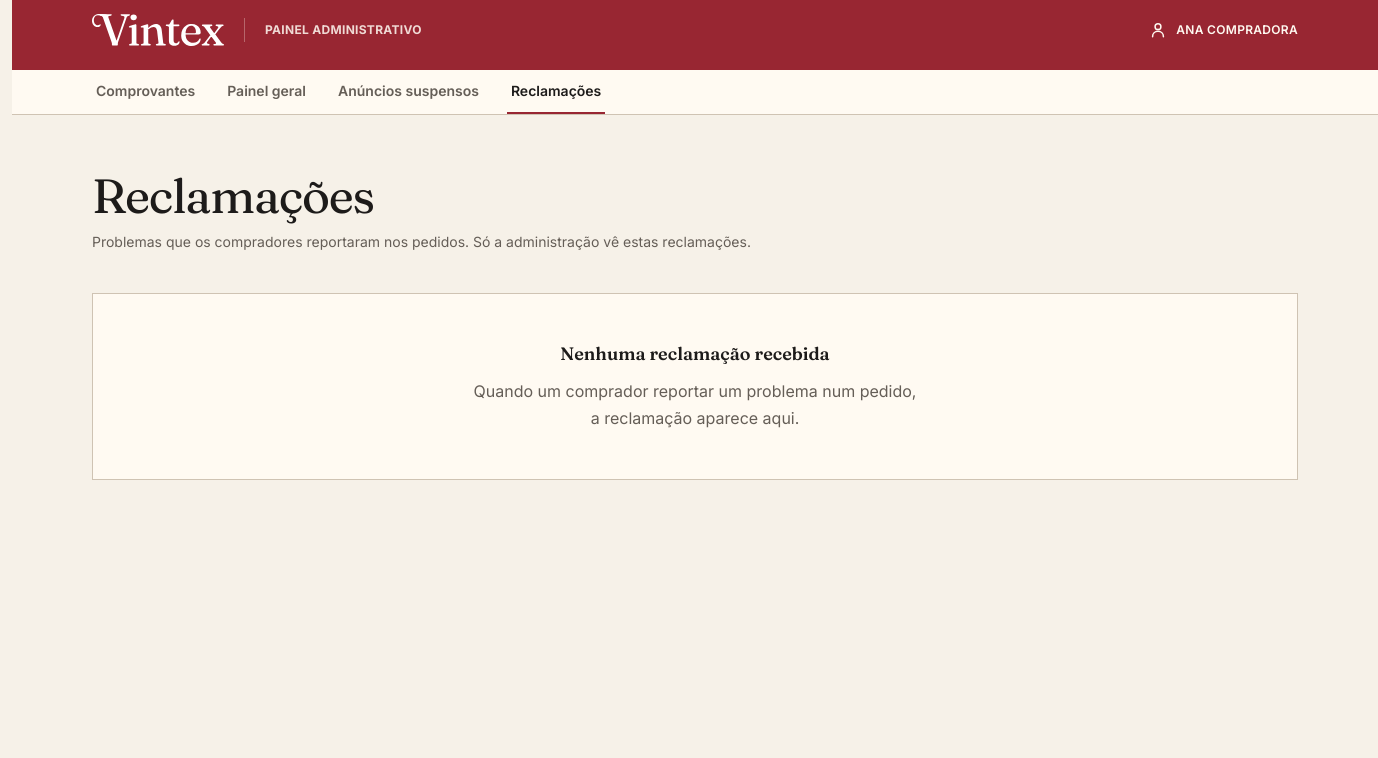
Scenario: <AppRoutes /> › #419 — RED: rotas administrativas da Sprint 4 › #413: o link "Painel geral" da navegação admin leva a /admin/dashboard
Expected: the heading "Reclamações" is shown, x1=92 y1=166 x2=374 y2=225
Click the link "Painel geral": click(267, 91) x1=227 y1=82 x2=306 y2=99
(page scrolled)
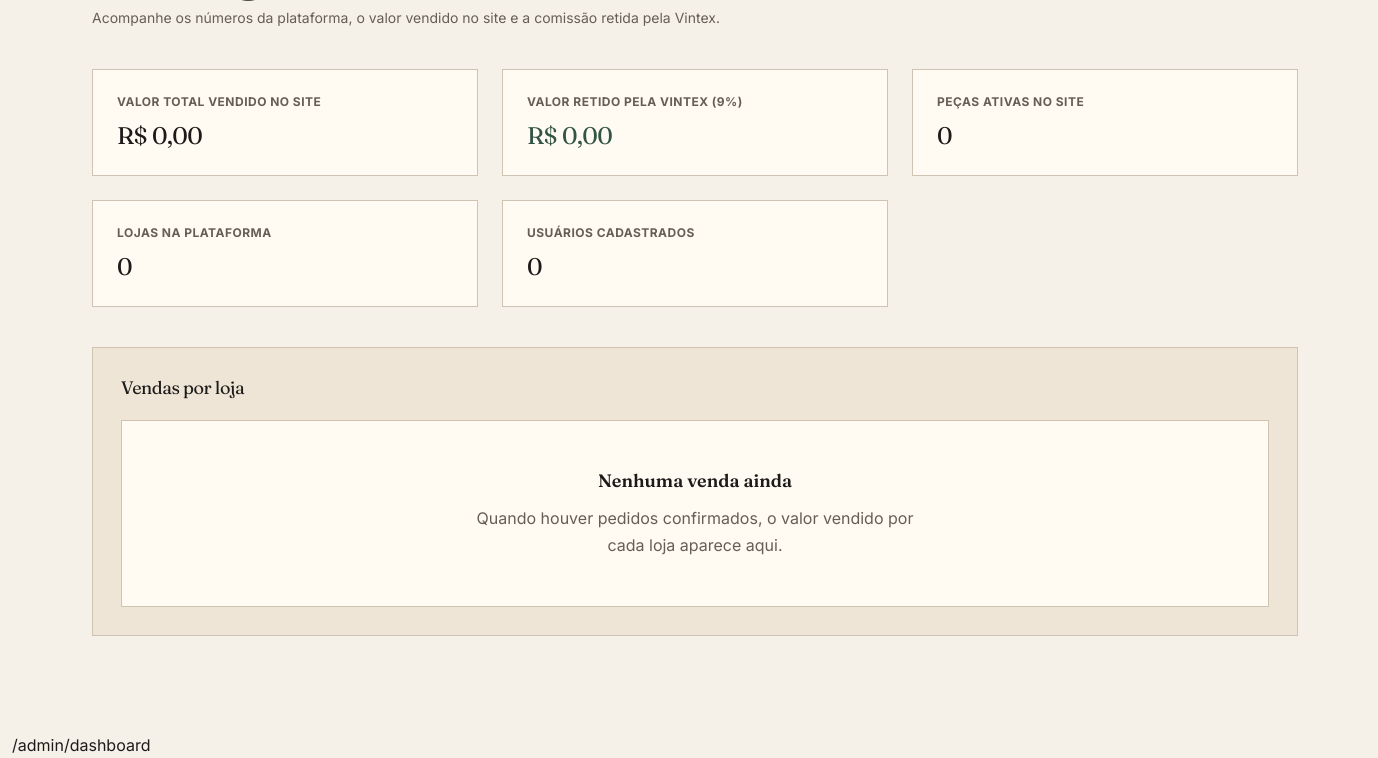
Expected: the text with test id "route-path" reads "/admin/dashboard", x1=12 y1=735 x2=150 y2=755
